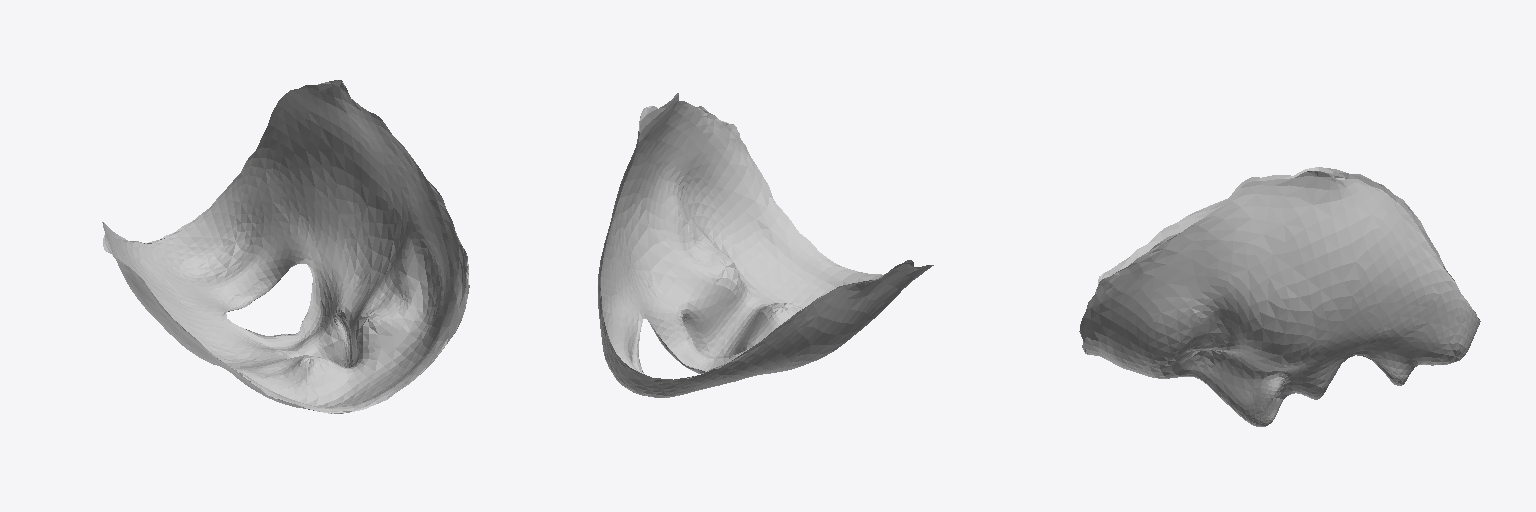
The model's file is face_gab_sfm64.obj.
The picture shows the model from 3 angles: view 1: azimuth 30°, elevation 25°; view 2: azimuth 150°, elevation 25°; view 3: azimuth 270°, elevation 25°; orthographic projection.
Size of the model in its own units: 167 by 165 by 220.